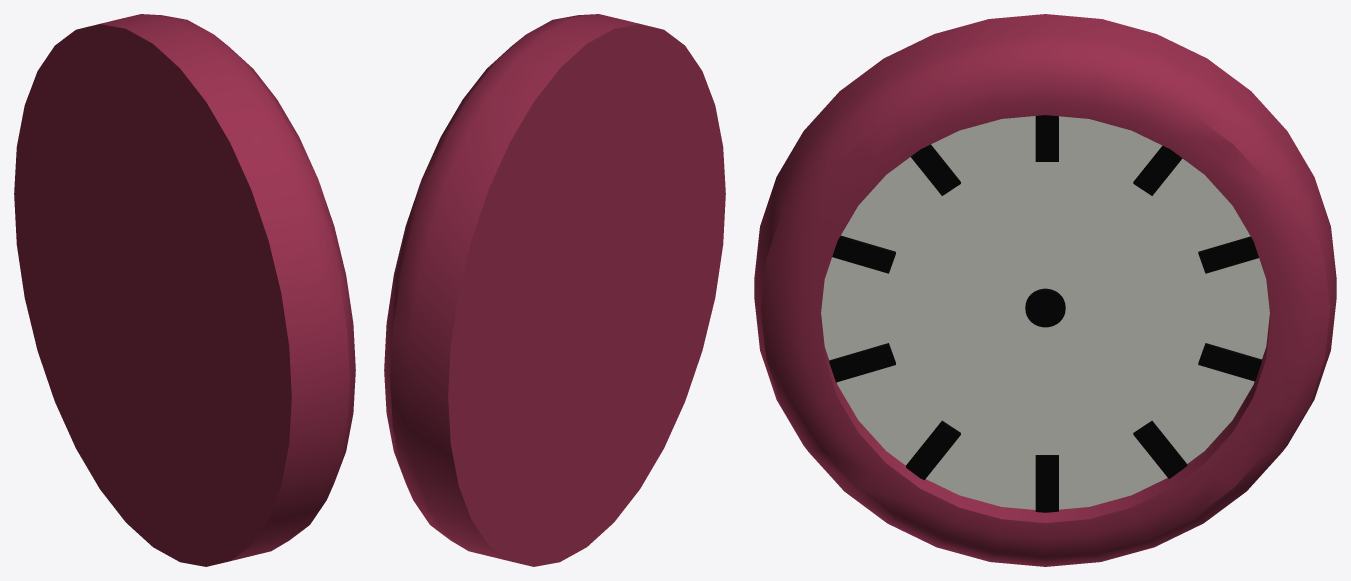
Rendered from uhr.glb.
3 renders of one model, left to right at view 1: azimuth 30°, elevation 25°; view 2: azimuth 150°, elevation 25°; view 3: azimuth 270°, elevation 25°, orthographic. The views are drawn at different scales.
Parts seen in each view (by area): view 1: Cylinder.123; view 2: Cylinder.123; view 3: Cylinder.123.
Boxes of the visible parts, x1,y1,x2,y2 form: Cylinder.123: (14, 14, 355, 566); Cylinder.123: (384, 14, 725, 566); Cylinder.123: (754, 14, 1336, 566).
Bounding box in the file's own units: 0.0709 × 0.4221 × 0.4221.
